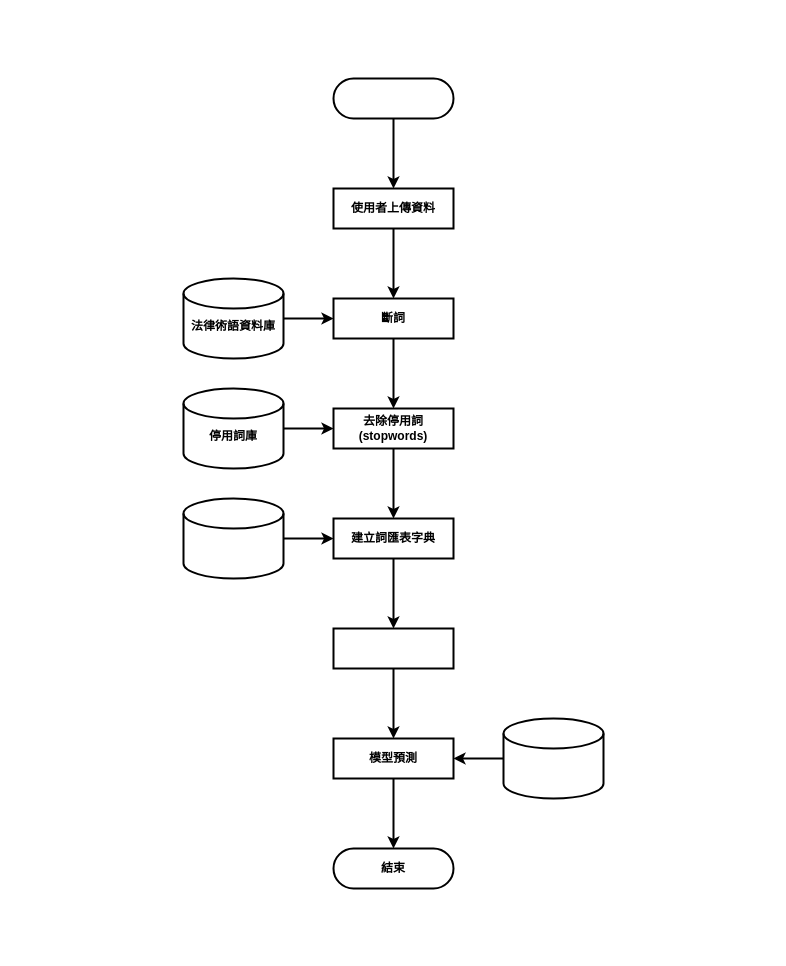
The diagram is 786 pixels wide and 966 high, and some of its shapes have lost their labels. The shapes that lost their labels are listed below. From the top down, each one's centre as x and y in pixels, then its label:
pixel 393 98: 開始
pixel 233 538: 詞向量
pixel 393 648: 建立word index
pixel 553 758: 模型
